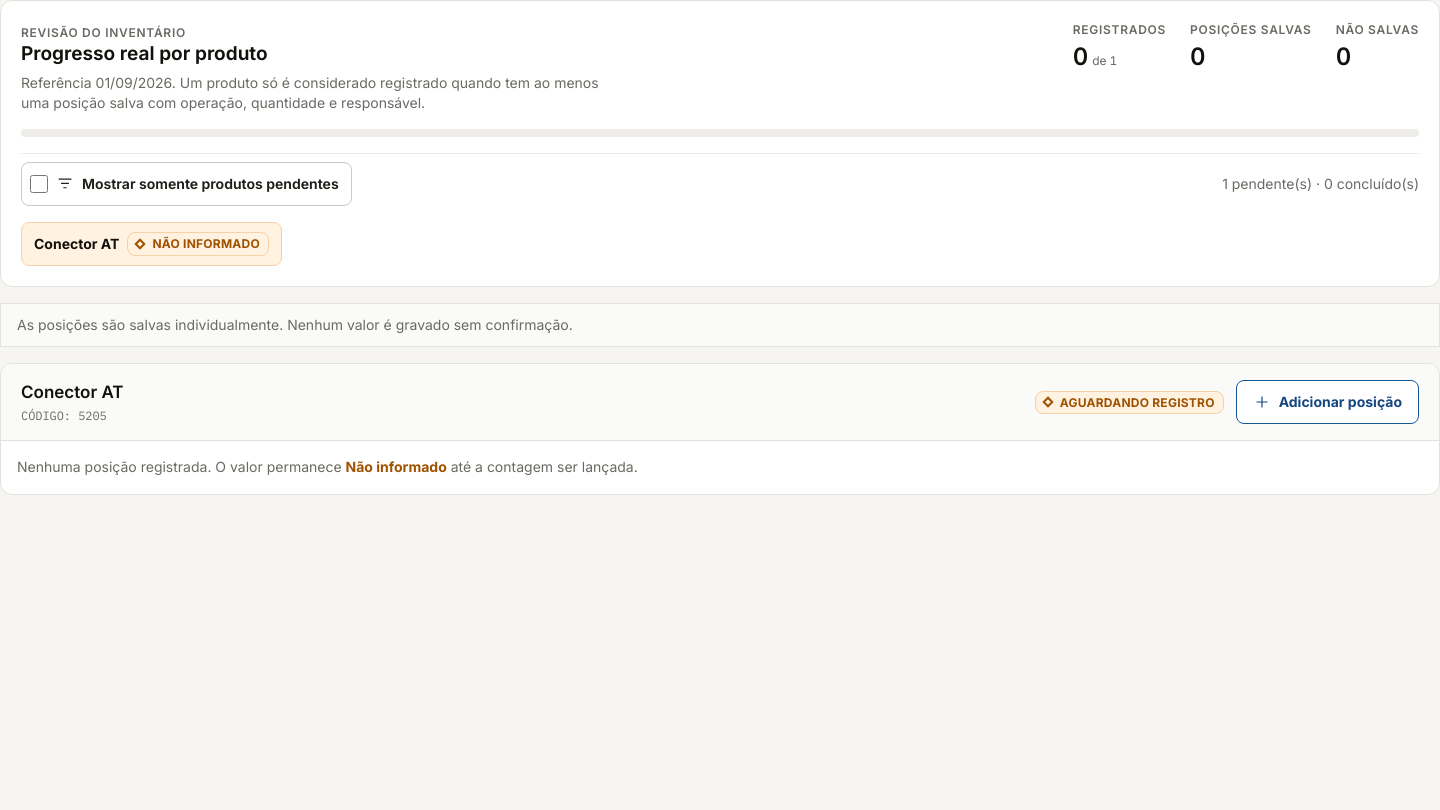
Test case: inventário de abertura › valida perto do campo e não envia nada incompleto
Click the button "Adicionar posição" at (1327, 402), box [1236,380,1419,424]
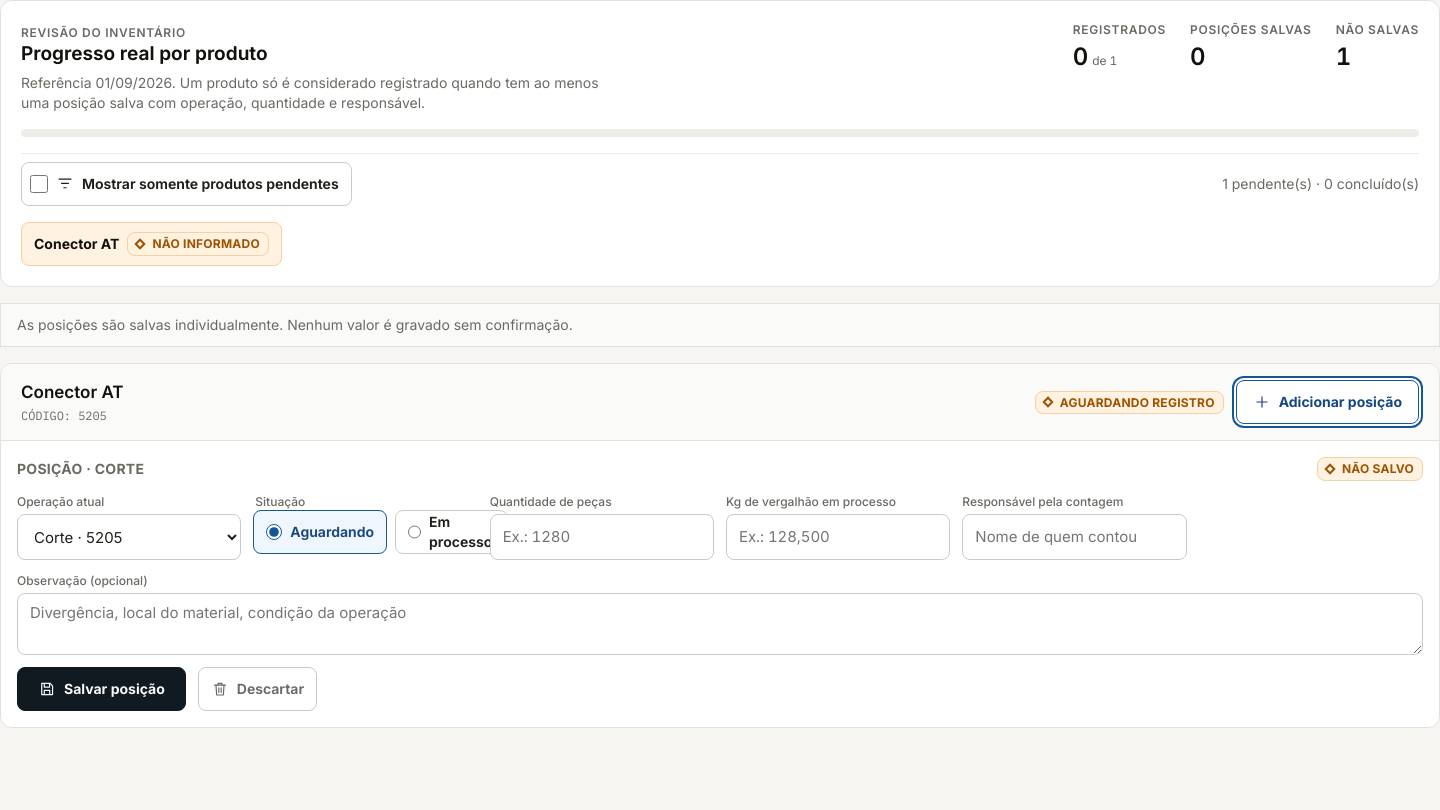
Click the button "Salvar posição" at (101, 689), box [17,667,186,711]
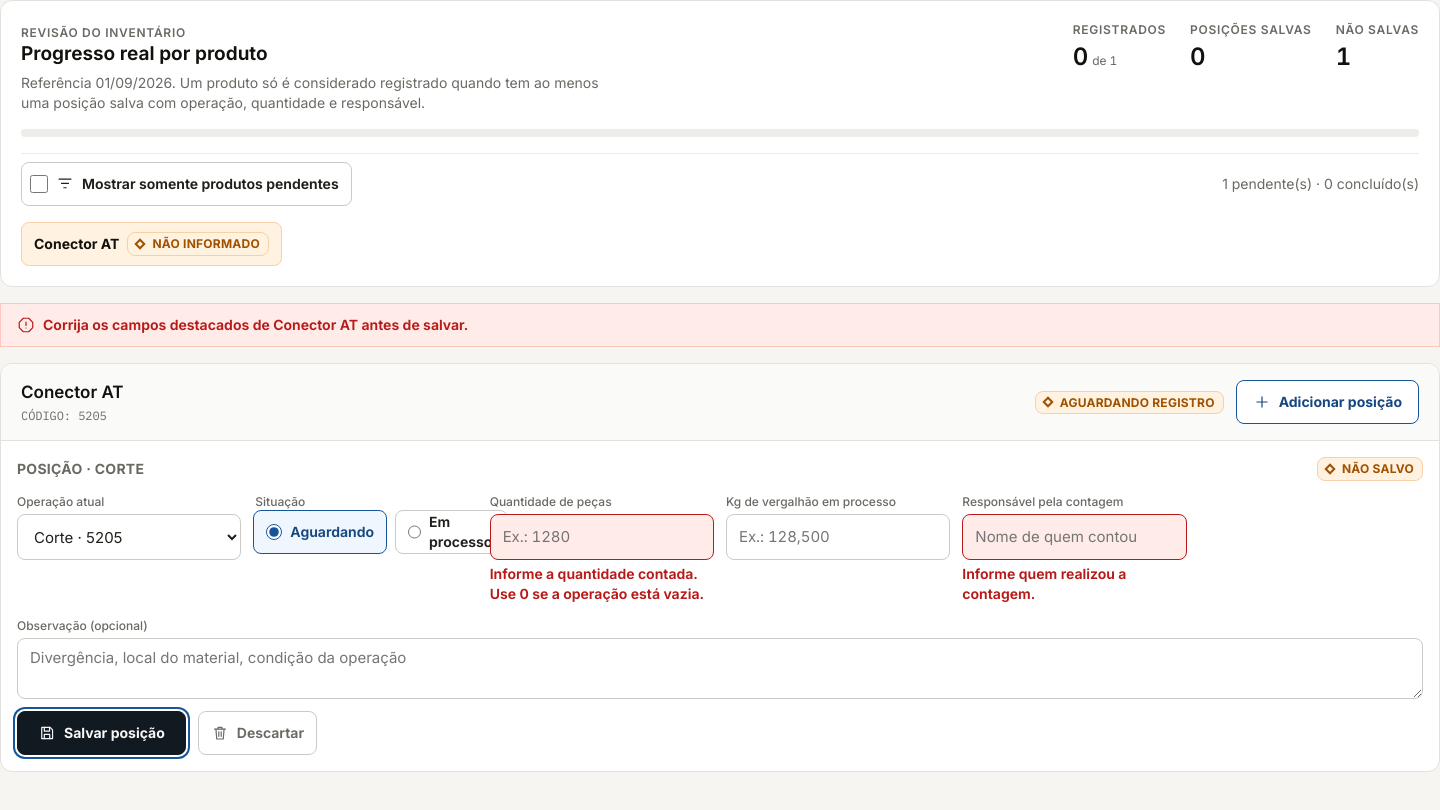
Check: the text "Informe a quantidade contada" is shown, box [490,565,704,602]
Check: the text "Informe quem realizou a contagem." is shown, box [962,565,1126,602]
